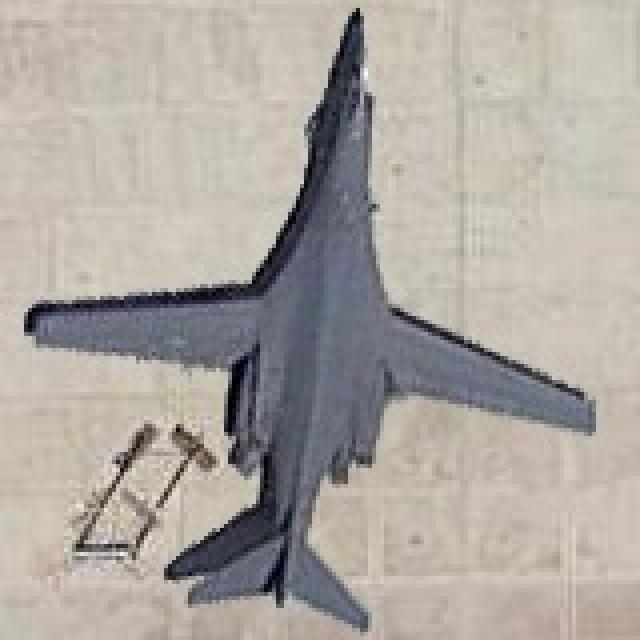B-1_TopDown: (20, 4, 596, 632)
